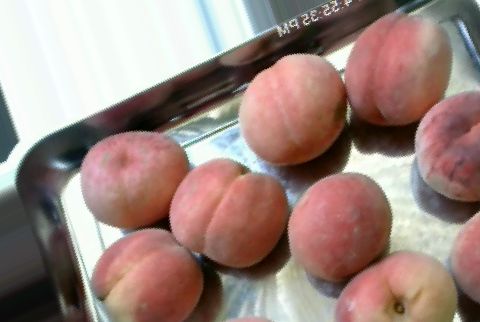Peach: (343, 10, 454, 126), (165, 159, 285, 266), (241, 54, 350, 165), (287, 173, 393, 282), (79, 130, 189, 228), (92, 229, 205, 322), (334, 252, 455, 320), (416, 90, 480, 202)
